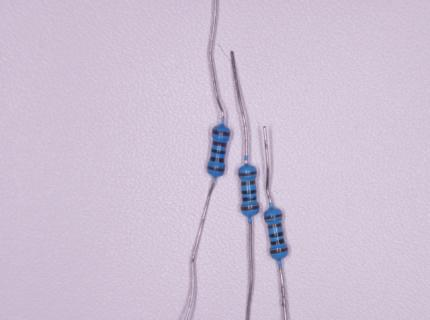Black band: (210, 156, 225, 163), (269, 231, 283, 238), (271, 239, 284, 245), (242, 196, 257, 201), (212, 149, 226, 154), (242, 190, 256, 194)
Brown band: (270, 247, 288, 254), (265, 213, 282, 220), (212, 130, 230, 136), (241, 205, 259, 211), (212, 140, 226, 147), (208, 166, 224, 172), (239, 171, 257, 176), (268, 223, 282, 229), (241, 181, 256, 186)
